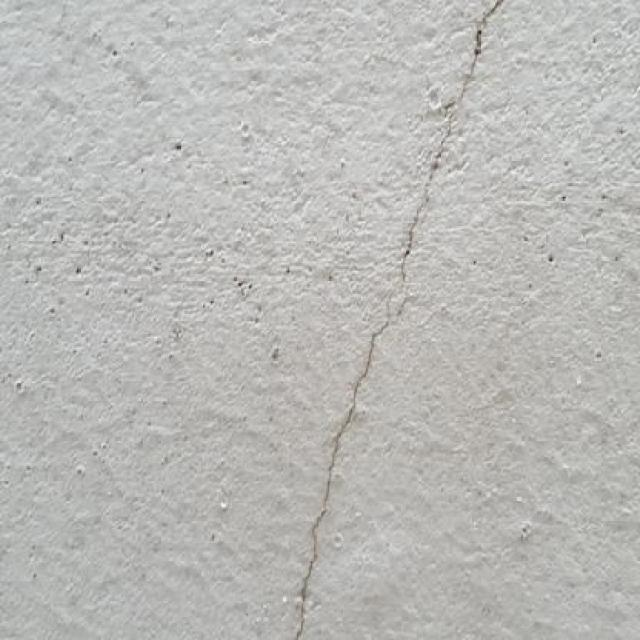GRIETA: (295, 0, 504, 639)
